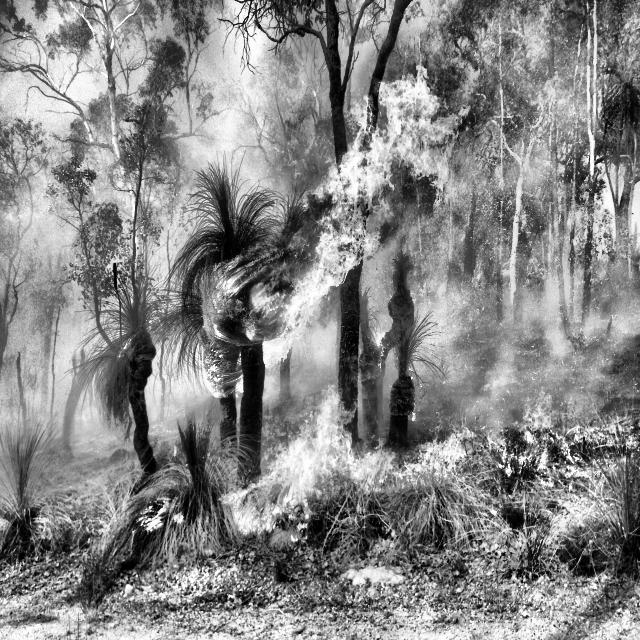fire: (159, 97, 484, 562)
